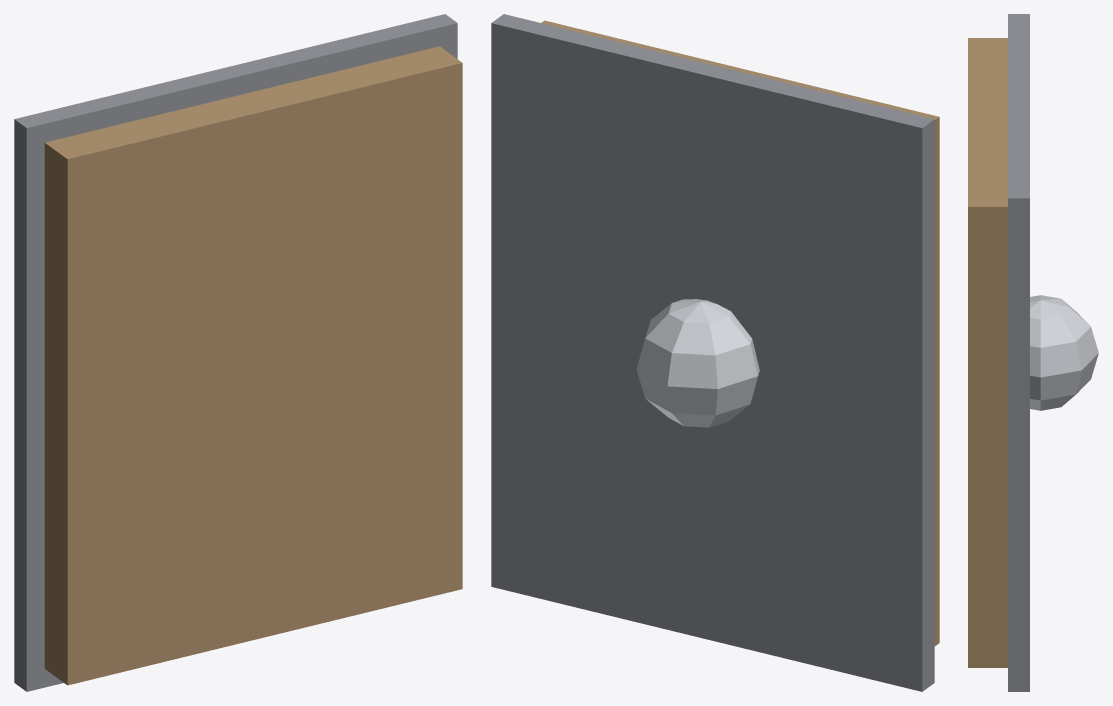
Rendered from sm_shield.glb.
3 renders of one model, left to right at view 1: azimuth 30°, elevation 25°; view 2: azimuth 150°, elevation 25°; view 3: azimuth 270°, elevation 25°, orthographic. The views are drawn at different scales.
Visible parts, largest first — view 1: sm_shield; view 2: sm_shield; view 3: sm_shield.
Boxes of the visible parts, x1,y1,x2,y2 form: sm_shield: (14,14,462,691); sm_shield: (491,14,939,691); sm_shield: (968,14,1098,691).
Bounding box in the file's own units: 0.6 × 0.75 × 0.18.
